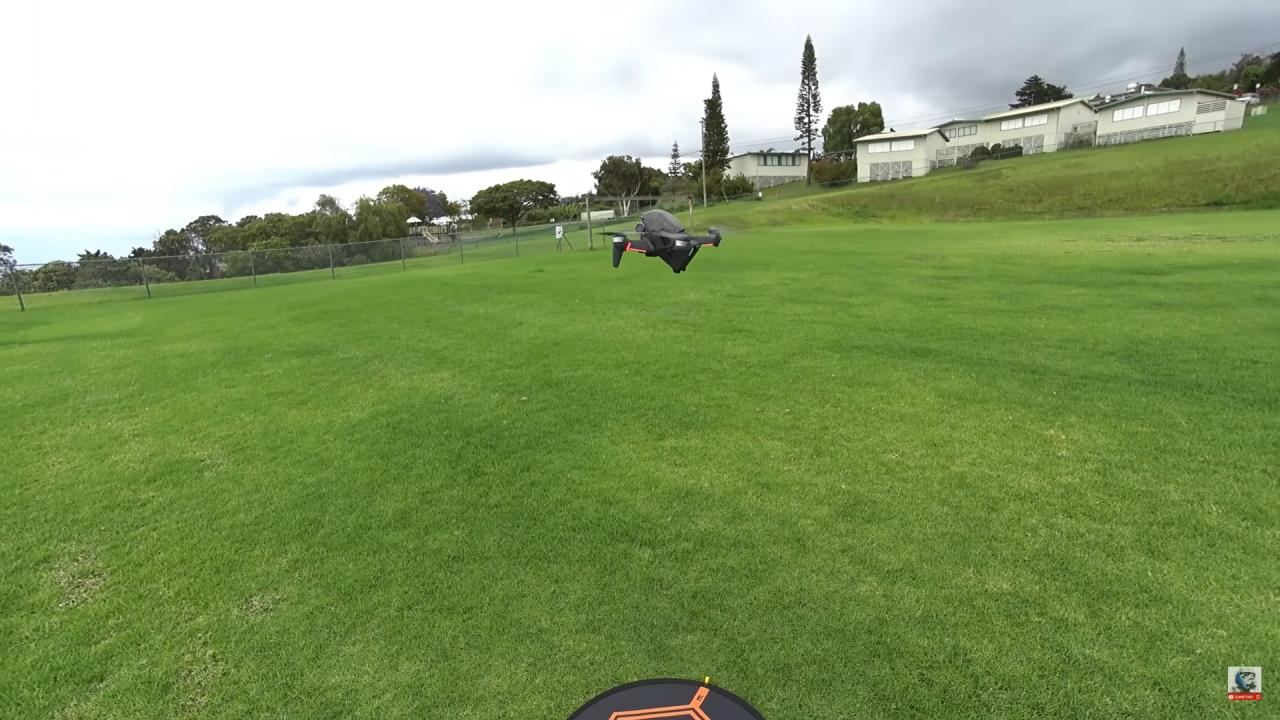Drone: (581, 193, 747, 295)
